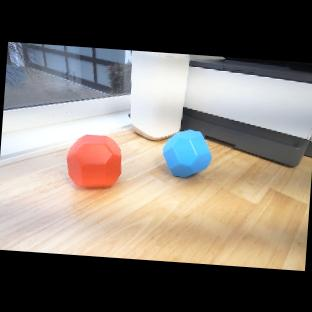V5_BLUE: (160, 127, 214, 181)
V5_RED: (64, 131, 125, 191)
